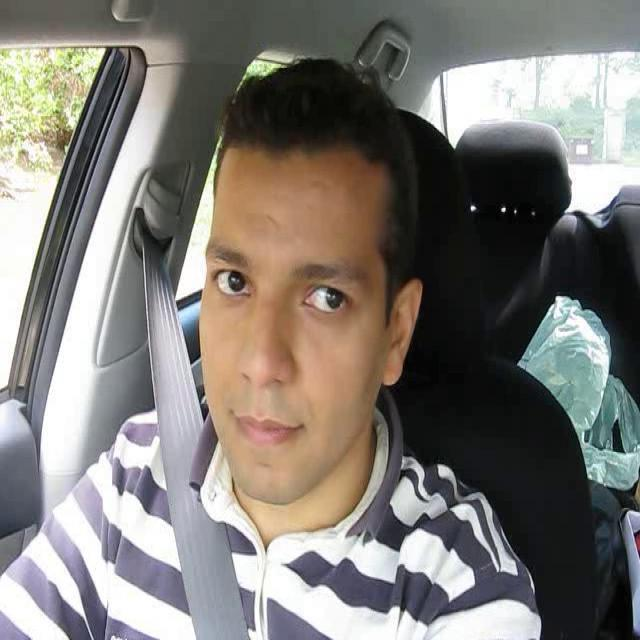open: (288, 260, 368, 330), (202, 242, 258, 314)
